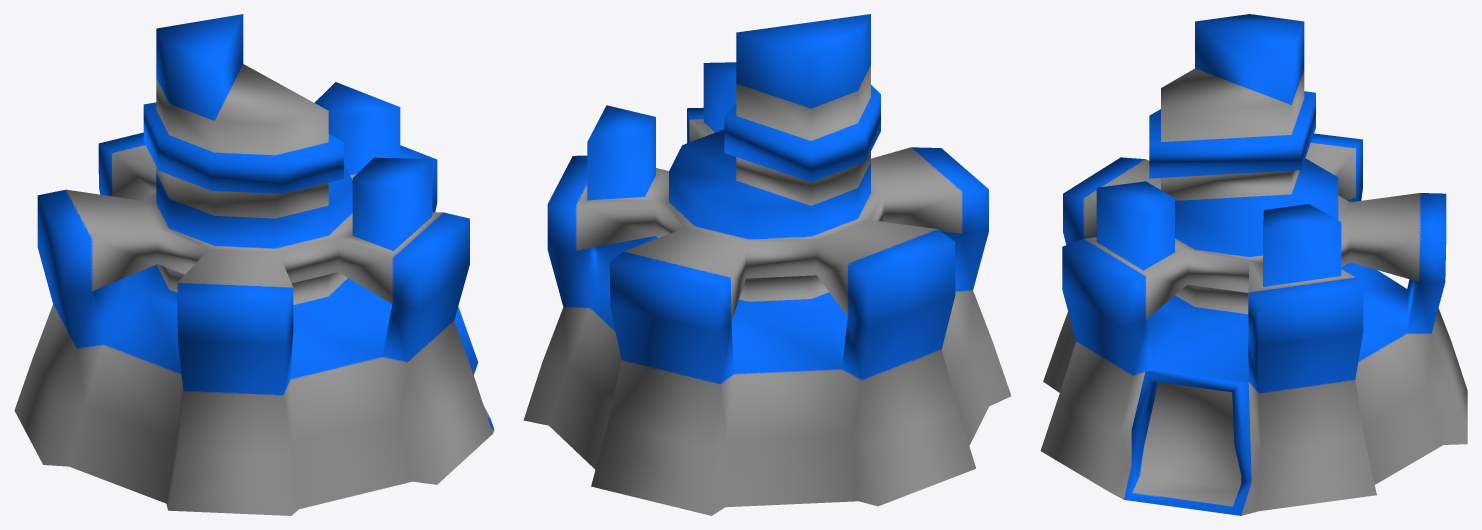
The model's file is headquater.fbx.
The picture shows the model from 3 angles, left to right: view 1: azimuth 30°, elevation 25°; view 2: azimuth 150°, elevation 25°; view 3: azimuth 270°, elevation 25°; orthographic projection. The views are drawn at different scales.
Parts seen in each view (by area): view 1: headquater_normal; view 2: headquater_normal; view 3: headquater_normal.
Boxes of the visible parts, x1,y1,x2,y2 form: headquater_normal: (14, 14, 494, 515); headquater_normal: (523, 14, 1011, 515); headquater_normal: (1040, 14, 1467, 515).
Bounding box in the file's own units: 33.85 × 30.47 × 32.12.
Materials: 1 (1 with a texture image).
